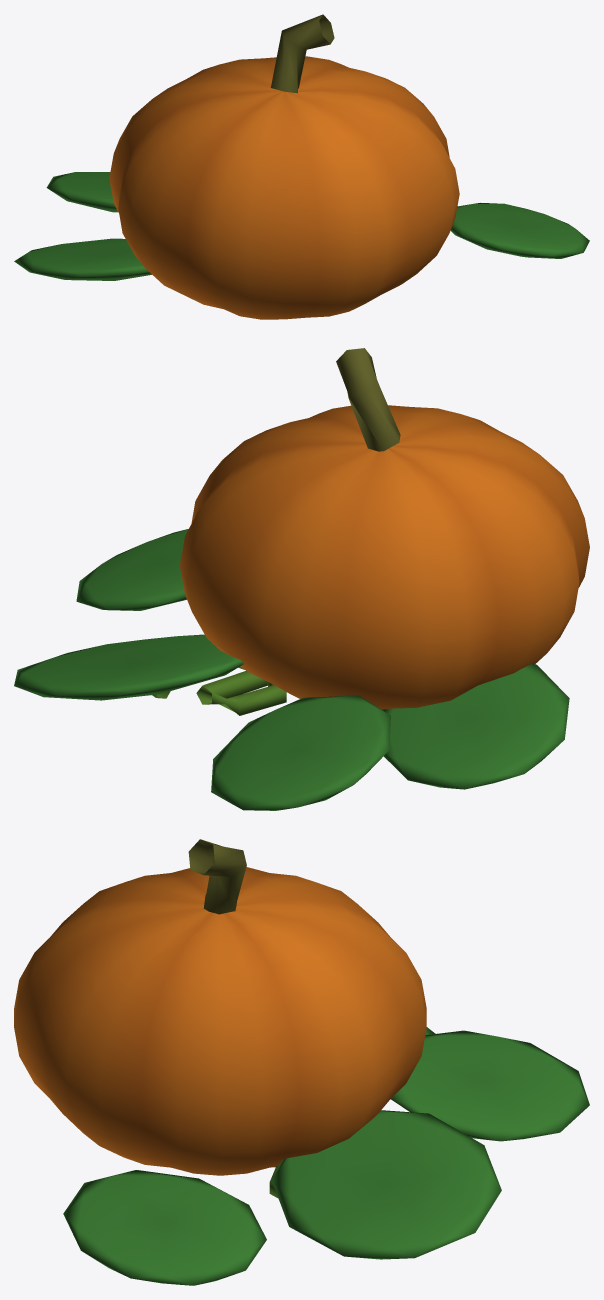
Rendered from crop_pumpkin.glb.
3 renders of one model, top to bottom at view 1: azimuth 30°, elevation 25°; view 2: azimuth 150°, elevation 25°; view 3: azimuth 270°, elevation 25°, orthographic. The views are drawn at different scales.
Parts seen in each view (by area): view 1: crop_pumpkin_main; view 2: crop_pumpkin_main; view 3: crop_pumpkin_main.
Boxes of the visible parts, box(x1,y1,x2,y2) form: crop_pumpkin_main: box(14, 14, 589, 319); crop_pumpkin_main: box(14, 348, 589, 810); crop_pumpkin_main: box(14, 839, 589, 1285).
Bounding box in the file's own units: 0.6895 × 0.3857 × 0.6189.
